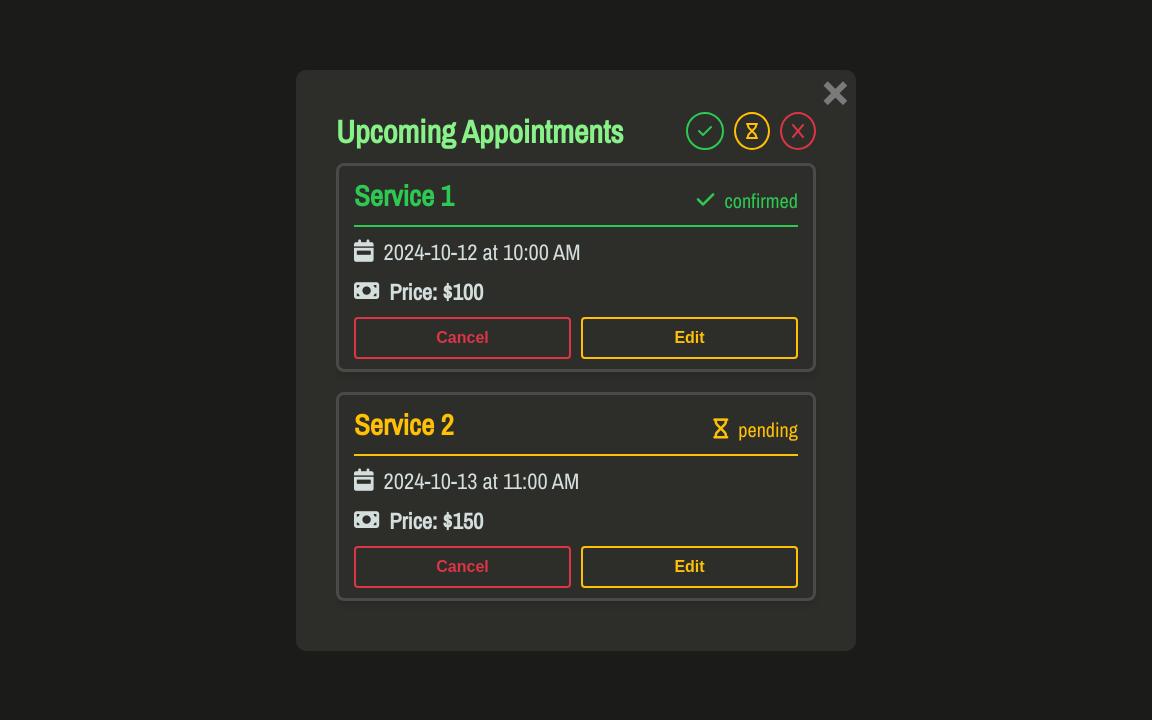
Test case: AppointmentsModal Component › filters appointments by status
Expected: the heading "Service 1" is shown, [354,176,454,214]
Expected: the heading "Service 2" is shown, [354,404,454,444]
Click the 1st icon at {"x": 705, "y": 131}, box [686,112,724,150]
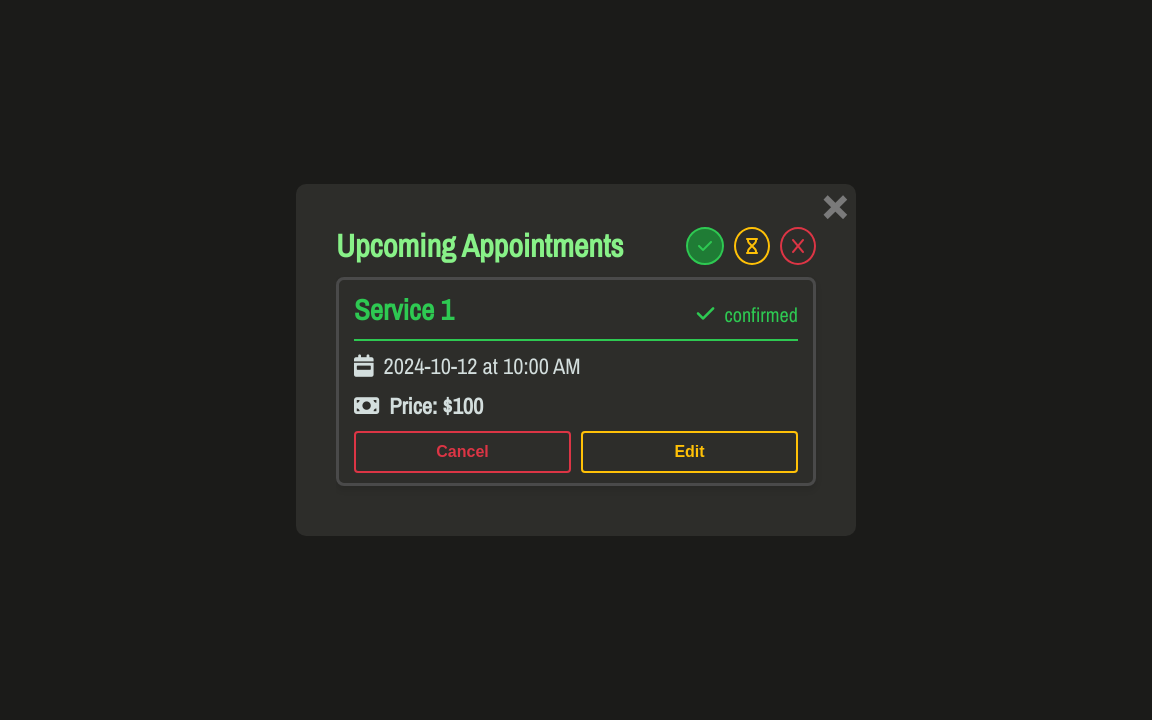
Expected: the heading "Service 1" is shown, [354,290,454,329]
Now the heading "Service 2" is gone
